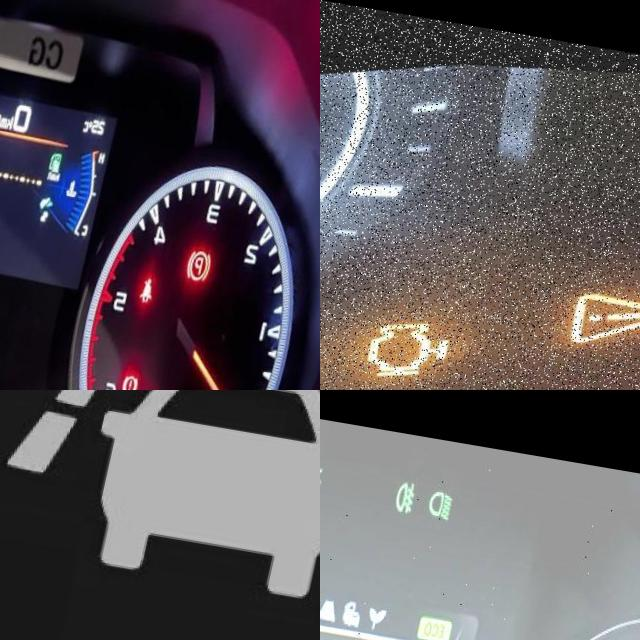Seat Belt: (158, 259, 177, 288)
